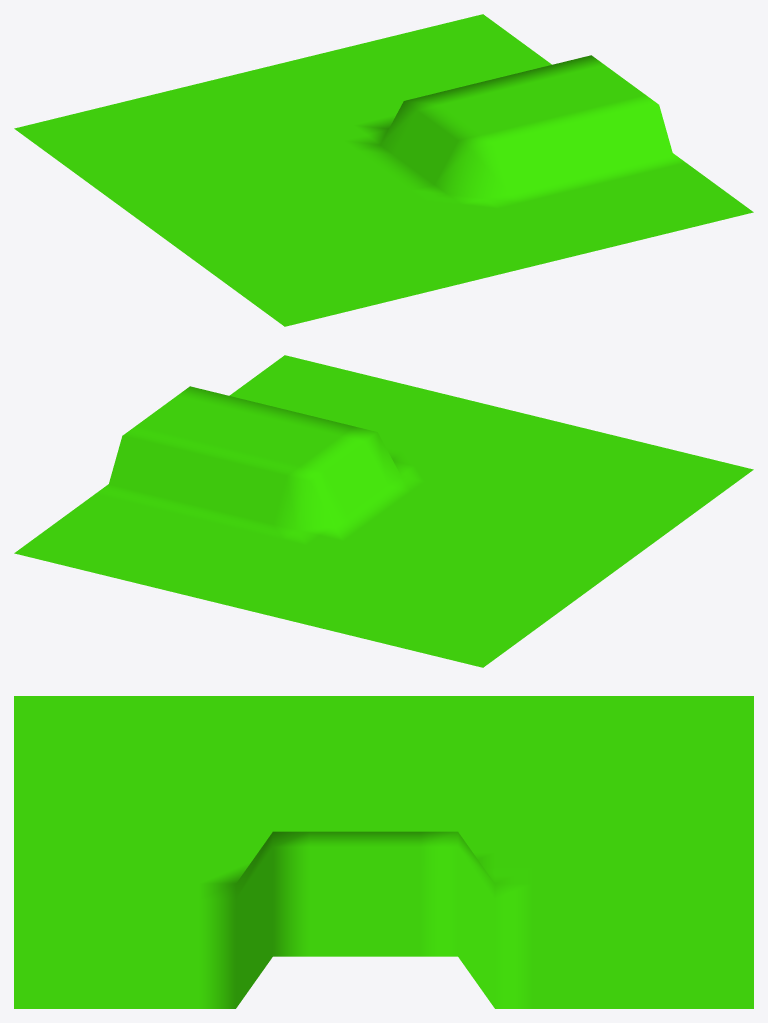
The model's file is ground.fbx.
3 views of the same model, one above another, from view 1: azimuth 30°, elevation 25°; view 2: azimuth 150°, elevation 25°; view 3: azimuth 270°, elevation 25° (orthographic). The views are drawn at different scales.
Parts seen in each view (by area): view 1: pPlane1; view 2: pPlane1; view 3: pPlane1.
Part boxes in pixels (left/top/right/bottom): pPlane1: left=14, top=14, right=753, bottom=326; pPlane1: left=14, top=355, right=753, bottom=667; pPlane1: left=14, top=696, right=753, bottom=1008.
Size of the model in its own units: 59.7 by 4.65 by 59.7.
